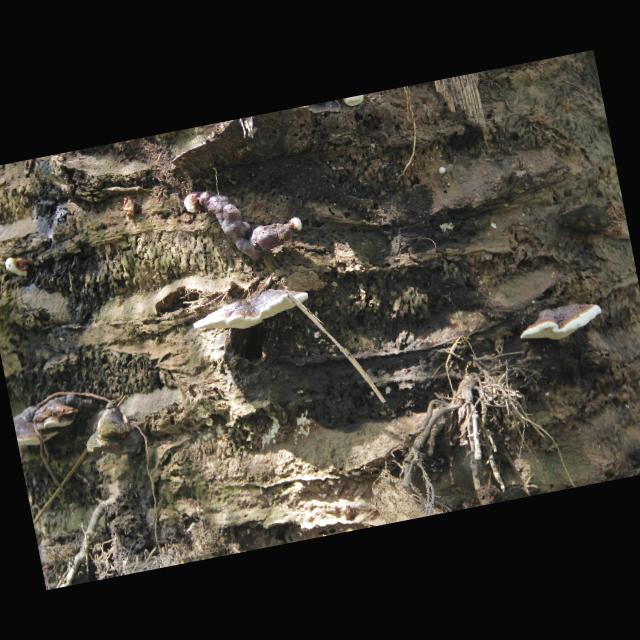ganoderma: (199, 178, 295, 272), (191, 283, 314, 340), (517, 300, 608, 349), (30, 391, 98, 434), (13, 403, 62, 451)
primordium: (5, 255, 34, 280), (184, 192, 204, 216), (344, 96, 367, 110), (289, 217, 305, 235), (440, 167, 448, 176)
